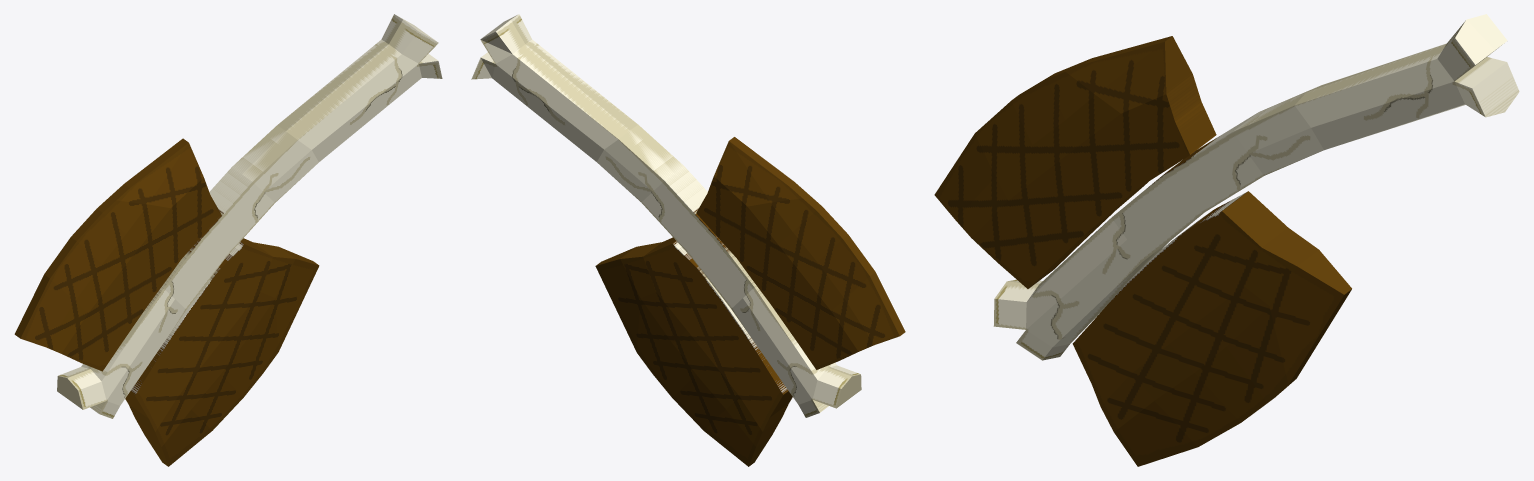
File: AXE_2.fbx
3 views of the same model, side by side, from view 1: azimuth 30°, elevation 25°; view 2: azimuth 150°, elevation 25°; view 3: azimuth 330°, elevation 25° (orthographic). The views are drawn at different scales.
Parts seen in each view (by area): view 1: Meat_Axe.001; view 2: Meat_Axe.001; view 3: Meat_Axe.001.
Boxes of the visible parts, <box> form: Meat_Axe.001: <box>14,14,442,466</box>; Meat_Axe.001: <box>471,14,905,466</box>; Meat_Axe.001: <box>934,14,1519,466</box>.
Size of the model in its own units: 842 by 746 by 100.
Materials: 1 (1 with a texture image).
